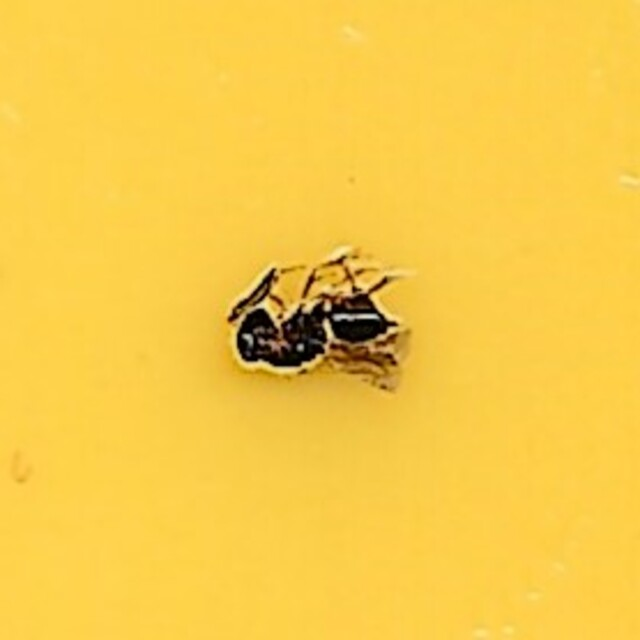Hymenoptera: (230, 251, 410, 389)
